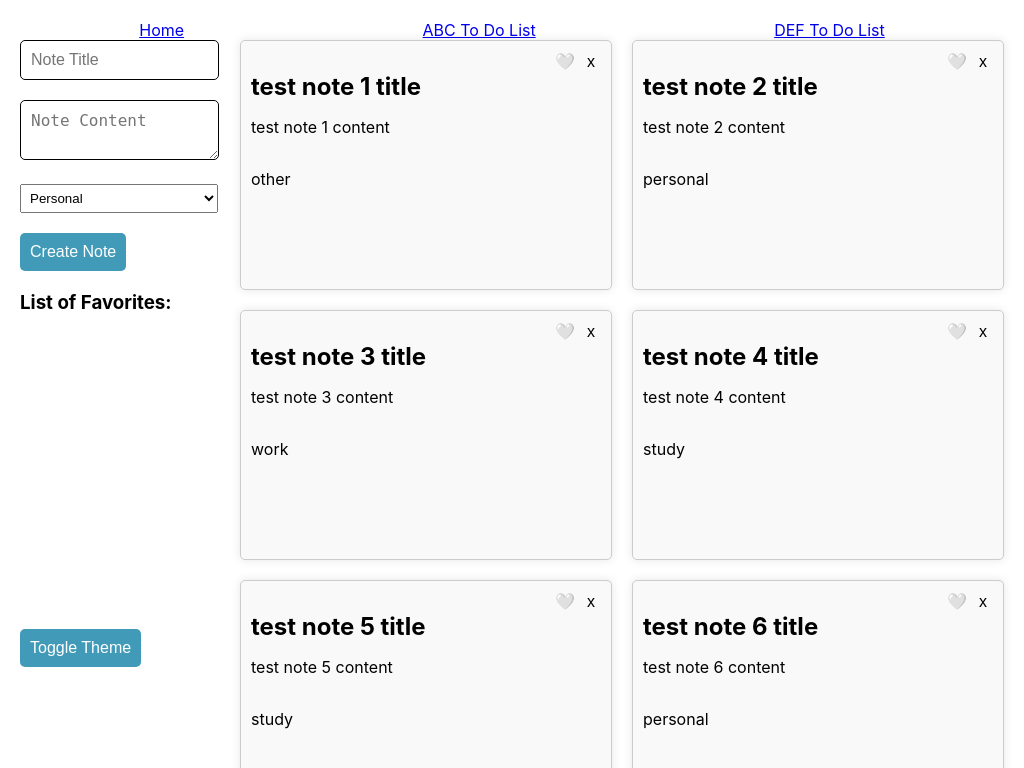
Initialize ToDoList › render ABC todolist
Click the link "ABC To Do List" at {"x": 479, "y": 30}, box [423,20,536,40]
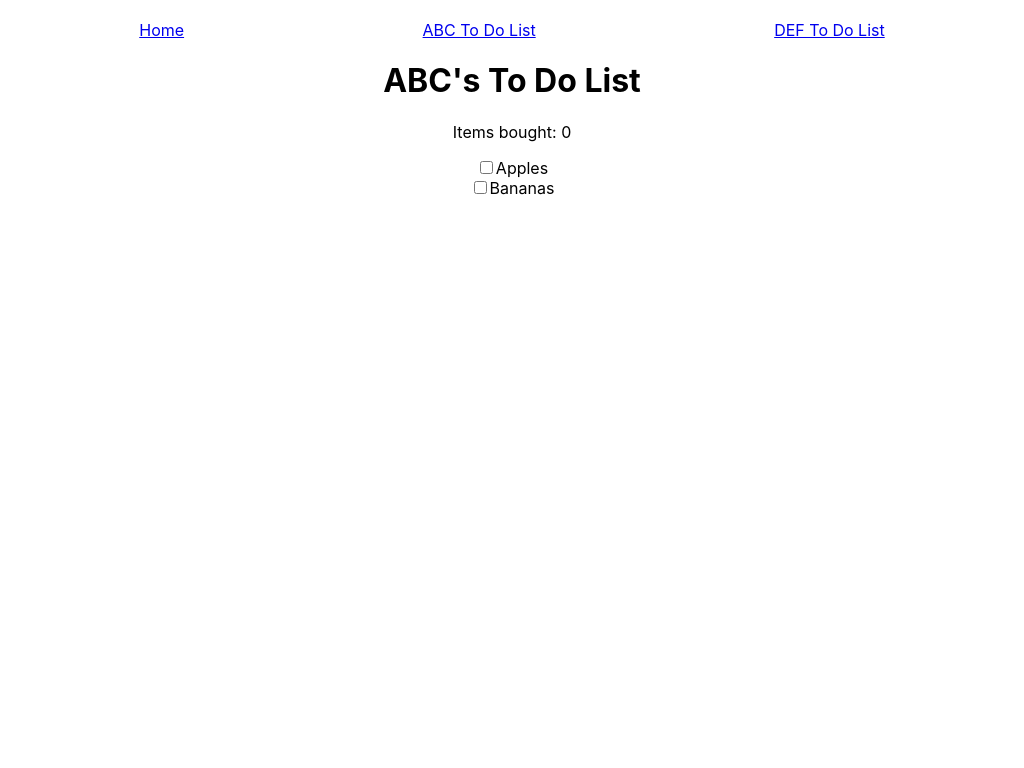
Check: the heading "ABC's To Do List" is shown, box [383,61,641,100]
Check: the text "Items bought: 0" is shown, box [453,122,571,142]
Check: the text "Apples" is shown, box [480,158,548,178]
